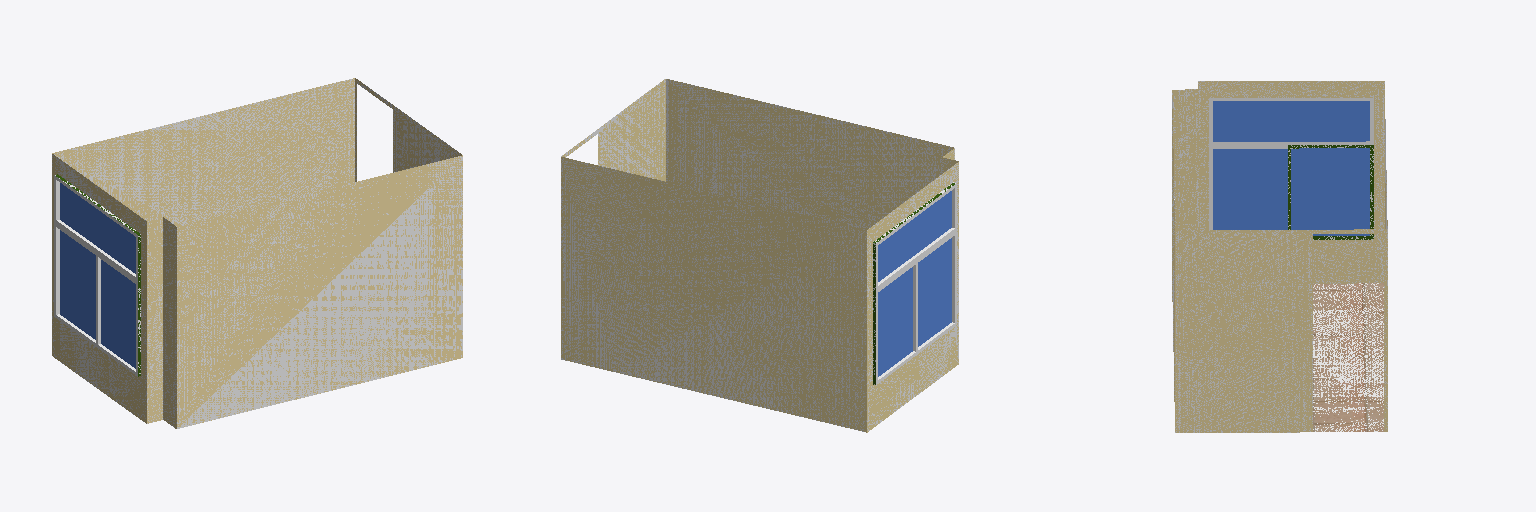
3 renders of one model, left to right at view 1: azimuth 30°, elevation 25°; view 2: azimuth 150°, elevation 25°; view 3: azimuth 270°, elevation 25°, orthographic.
Visible parts, largest first — view 1: Mesh7 DES026 Model, Mesh1 ventana1_2_1 DES026 Model; view 2: Mesh7 DES026 Model, Mesh1 ventana1_2_1 DES026 Model; view 3: Mesh7 DES026 Model, Mesh1 ventana1_2_1 DES026 Model.
Part boxes in pixels (x1,y1,x2,y2): Mesh7 DES026 Model: (52, 78, 462, 428); Mesh1 ventana1_2_1 DES026 Model: (54, 174, 140, 376); Mesh7 DES026 Model: (561, 79, 958, 432); Mesh1 ventana1_2_1 DES026 Model: (873, 182, 956, 384); Mesh7 DES026 Model: (1172, 81, 1387, 432); Mesh1 ventana1_2_1 DES026 Model: (1209, 98, 1373, 239).
Size of the model in its own units: 4.79 by 3 by 2.89.
7 materials, 1 textured.